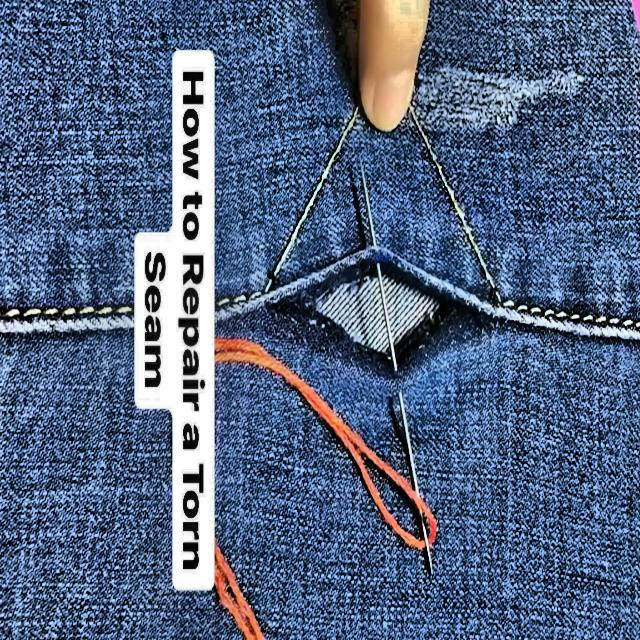seam: (248, 240, 508, 376)
